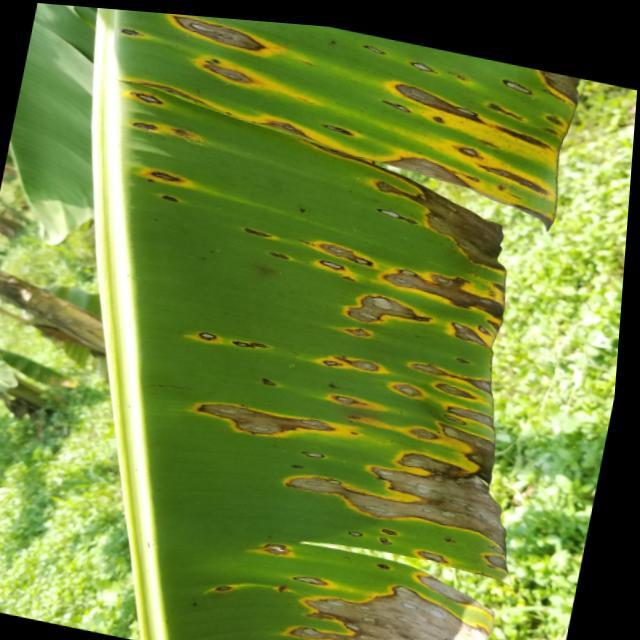Early_rust: (99, 0, 565, 640)
